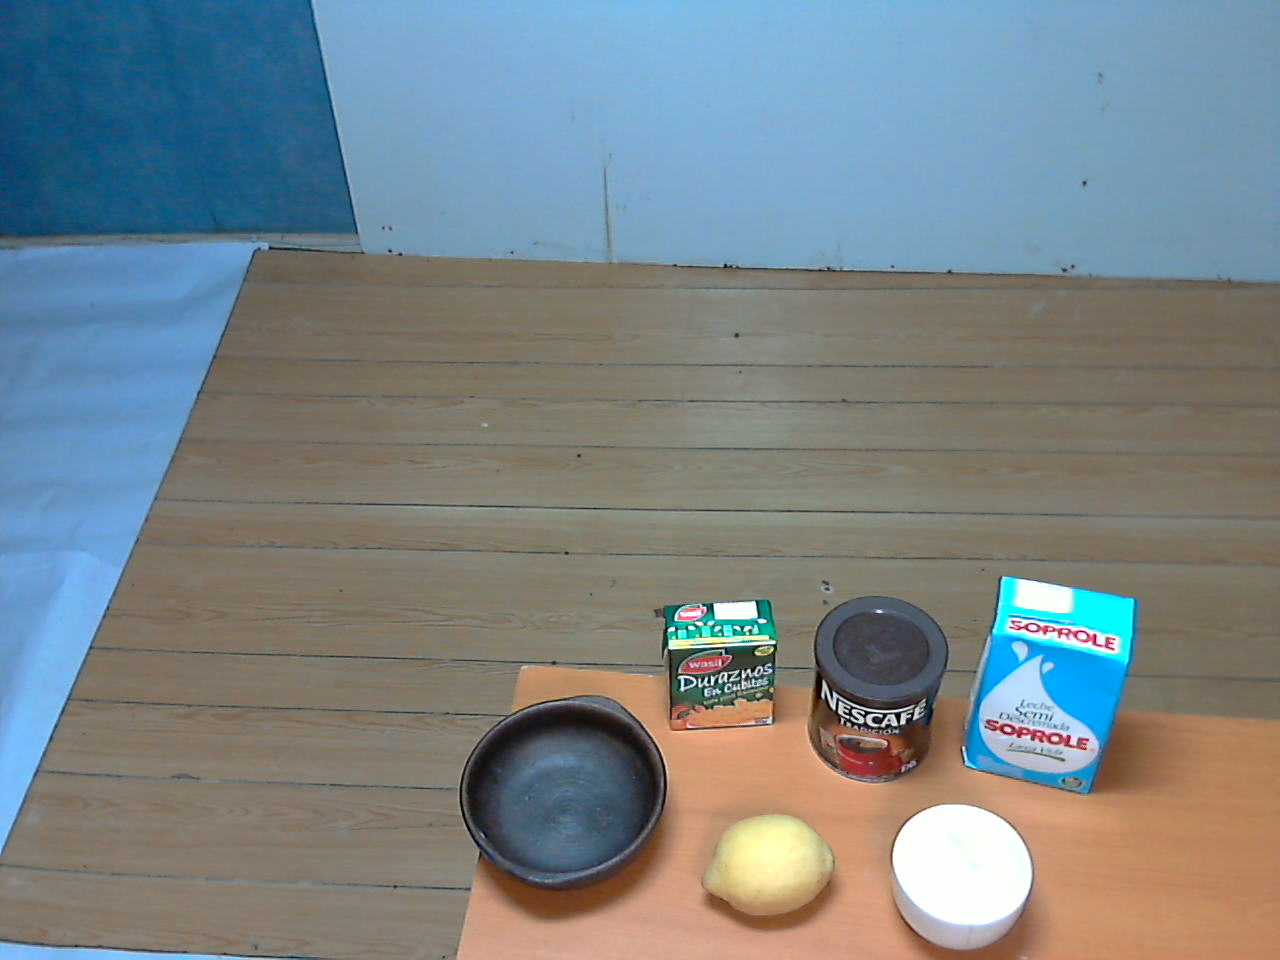azucarero: (885, 792, 1048, 960)
cafe: (801, 591, 955, 788)
durazno: (646, 592, 783, 741)
greda: (451, 689, 677, 903)
leche: (957, 560, 1146, 803)
limon: (685, 800, 852, 934)
